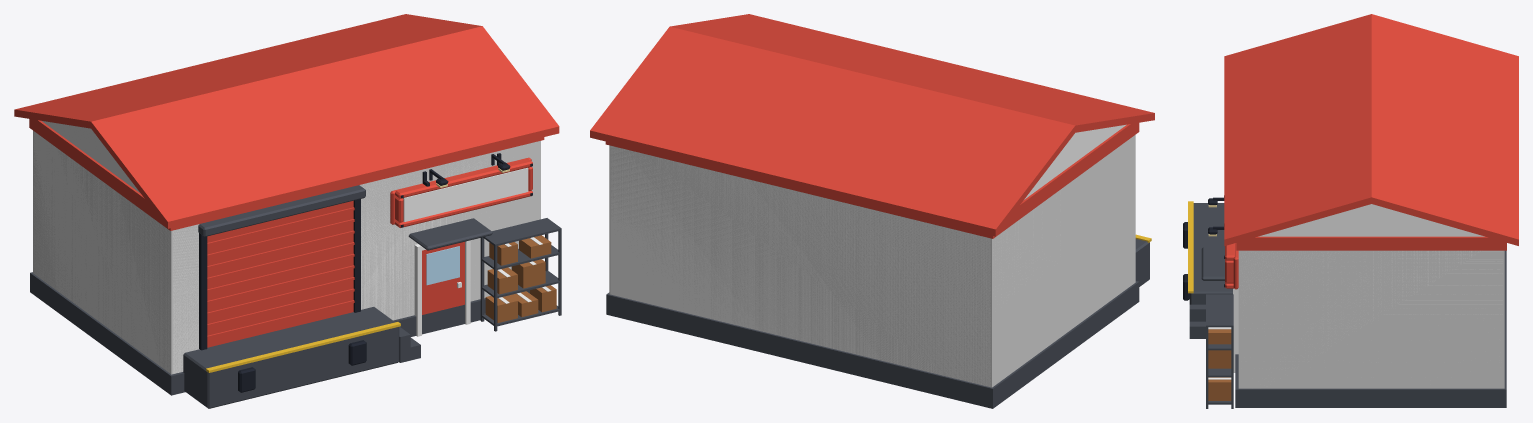
Rendered from shop-exterior.glb.
3 renders of one model, left to right at view 1: azimuth 30°, elevation 25°; view 2: azimuth 150°, elevation 25°; view 3: azimuth 270°, elevation 25°, orthographic. The views are drawn at different scales.
Visible parts, largest first — view 1: shop, COL_body, sign_board, sign_frame; view 2: shop, COL_body; view 3: shop, COL_body, sign_frame.
Boxes of the visible parts, x1,y1,x2,y2 form: shop: [14, 14, 561, 408]; COL_body: [33, 130, 540, 374]; sign_board: [403, 167, 528, 221]; sign_frame: [395, 153, 532, 227]; shop: [590, 14, 1154, 408]; COL_body: [609, 135, 1135, 387]; shop: [1183, 14, 1518, 408]; COL_body: [1238, 250, 1504, 388]; sign_frame: [1208, 195, 1234, 288].
Bounding box in the file's own units: 10.6 × 5.8 × 8.21.
